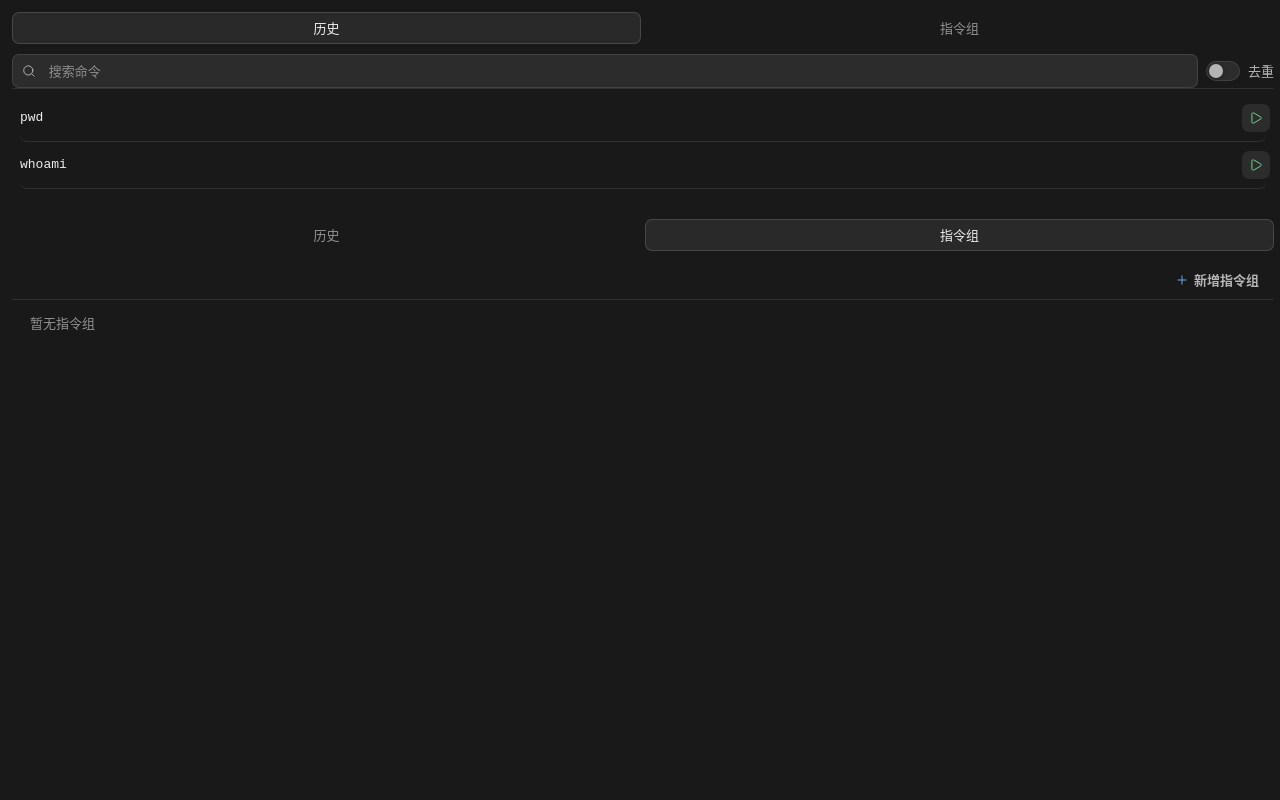
it: CommandHistoryPanel › renders the command group form as a centered shared dialog
Click the button "新增指令组" at (1217, 280), box [1168,266,1266,294]
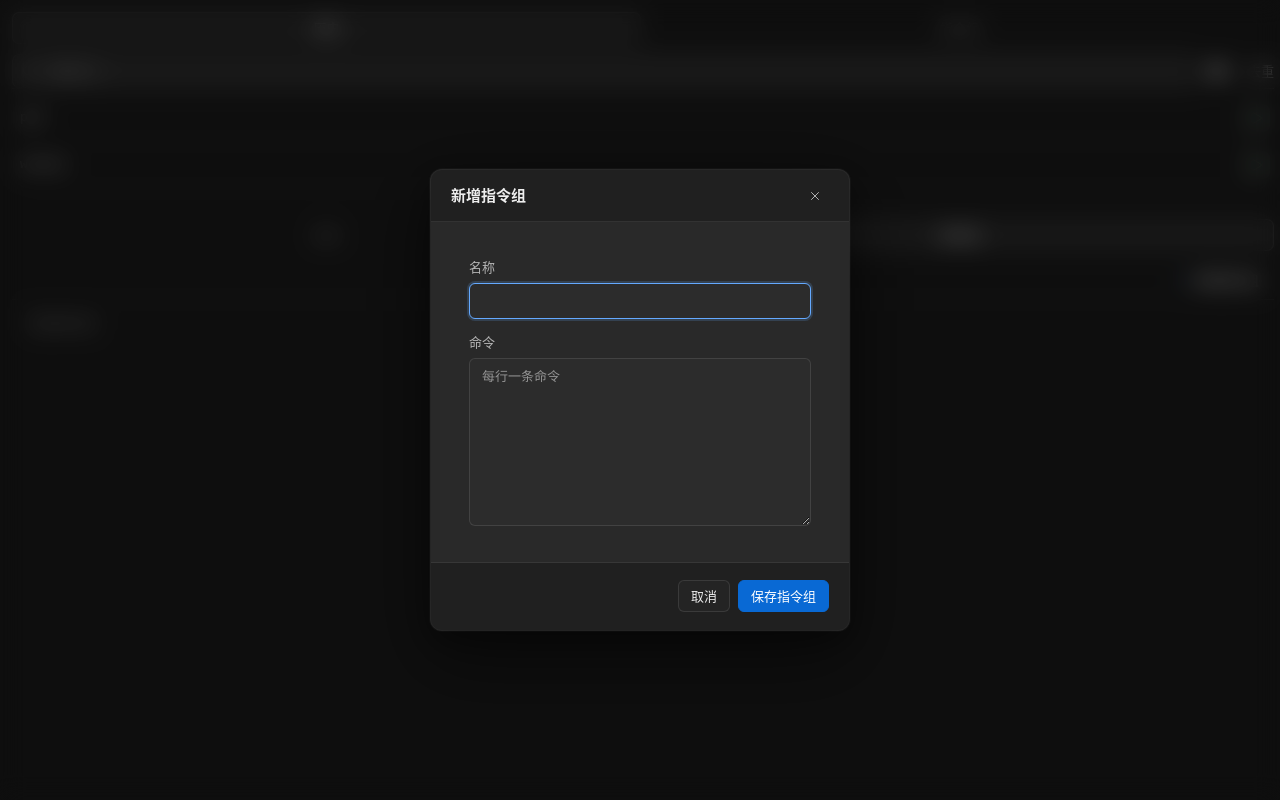
Now the element showing "新增指令组 名称 命令 取消 保存指令组" is shown
Click the button "取消" at (704, 596), box [678,580,730,612]
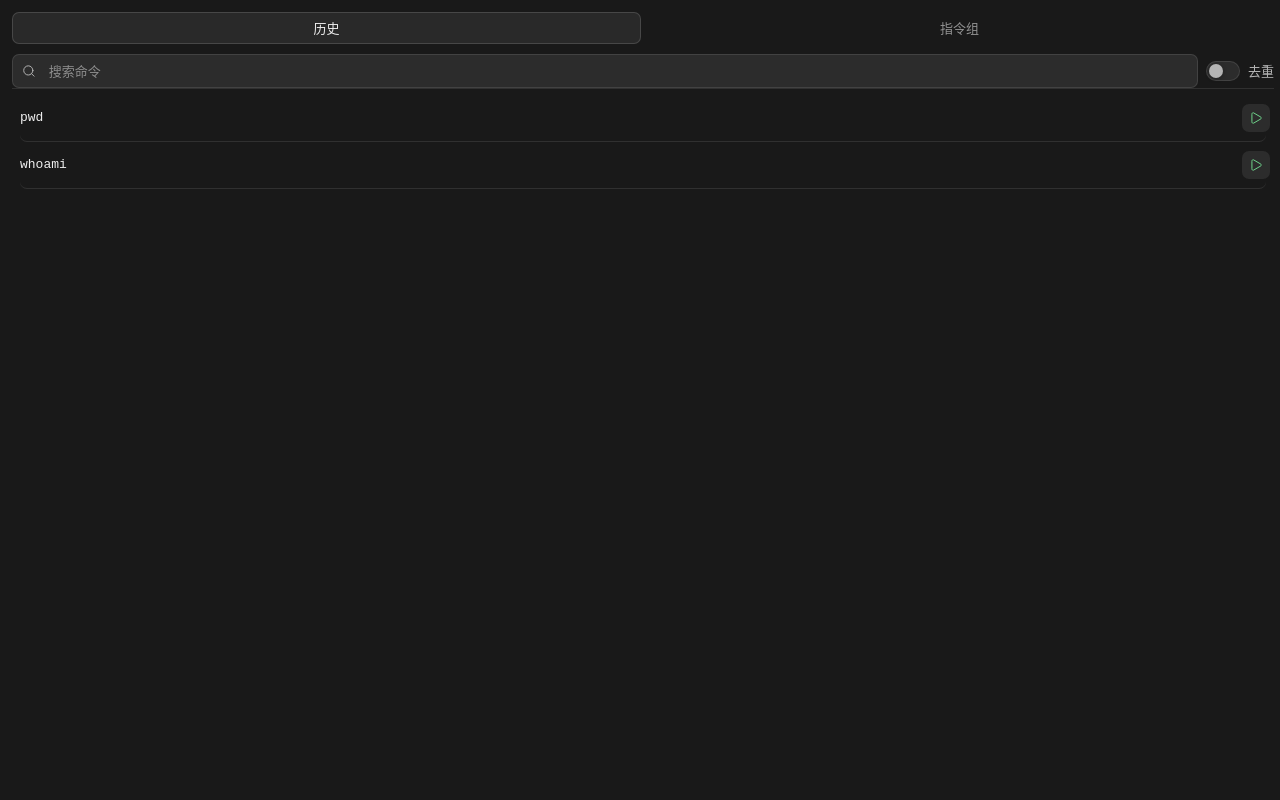
Now the dialog is gone
